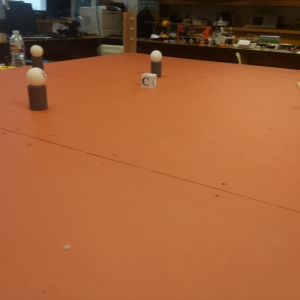blockC: (141, 74, 157, 90)
corner: (121, 12, 136, 53)
obstacle: (26, 68, 47, 109), (30, 45, 43, 71), (149, 50, 161, 77)
